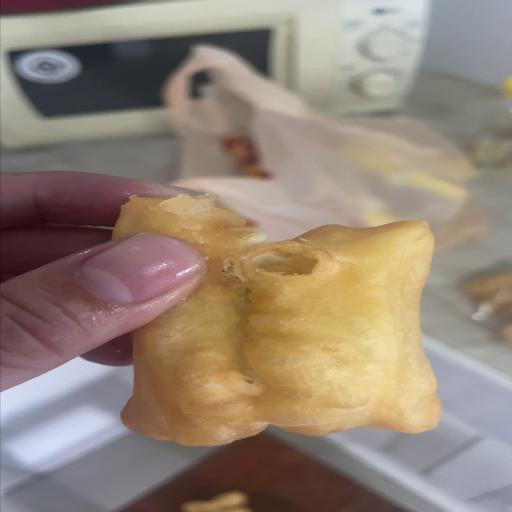street_golden_defect: (113, 196, 441, 446)
